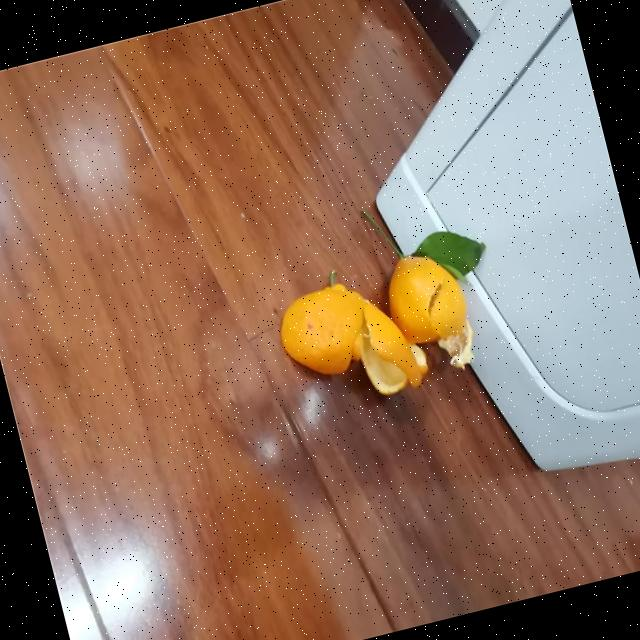orange-peel: (267, 273, 378, 386), (376, 243, 472, 350)
